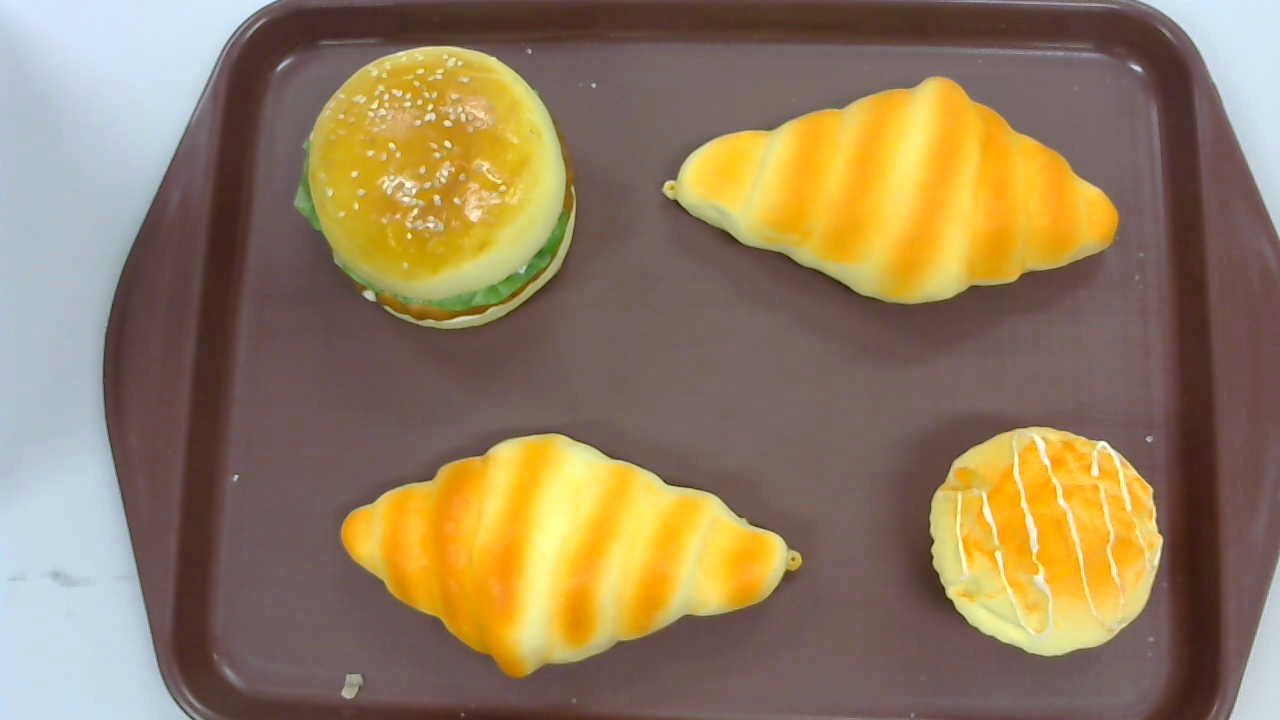croissant: (341, 434, 803, 679), (660, 74, 1119, 306)
cupcake: (928, 425, 1163, 658)
hamburger: (294, 46, 578, 331)
